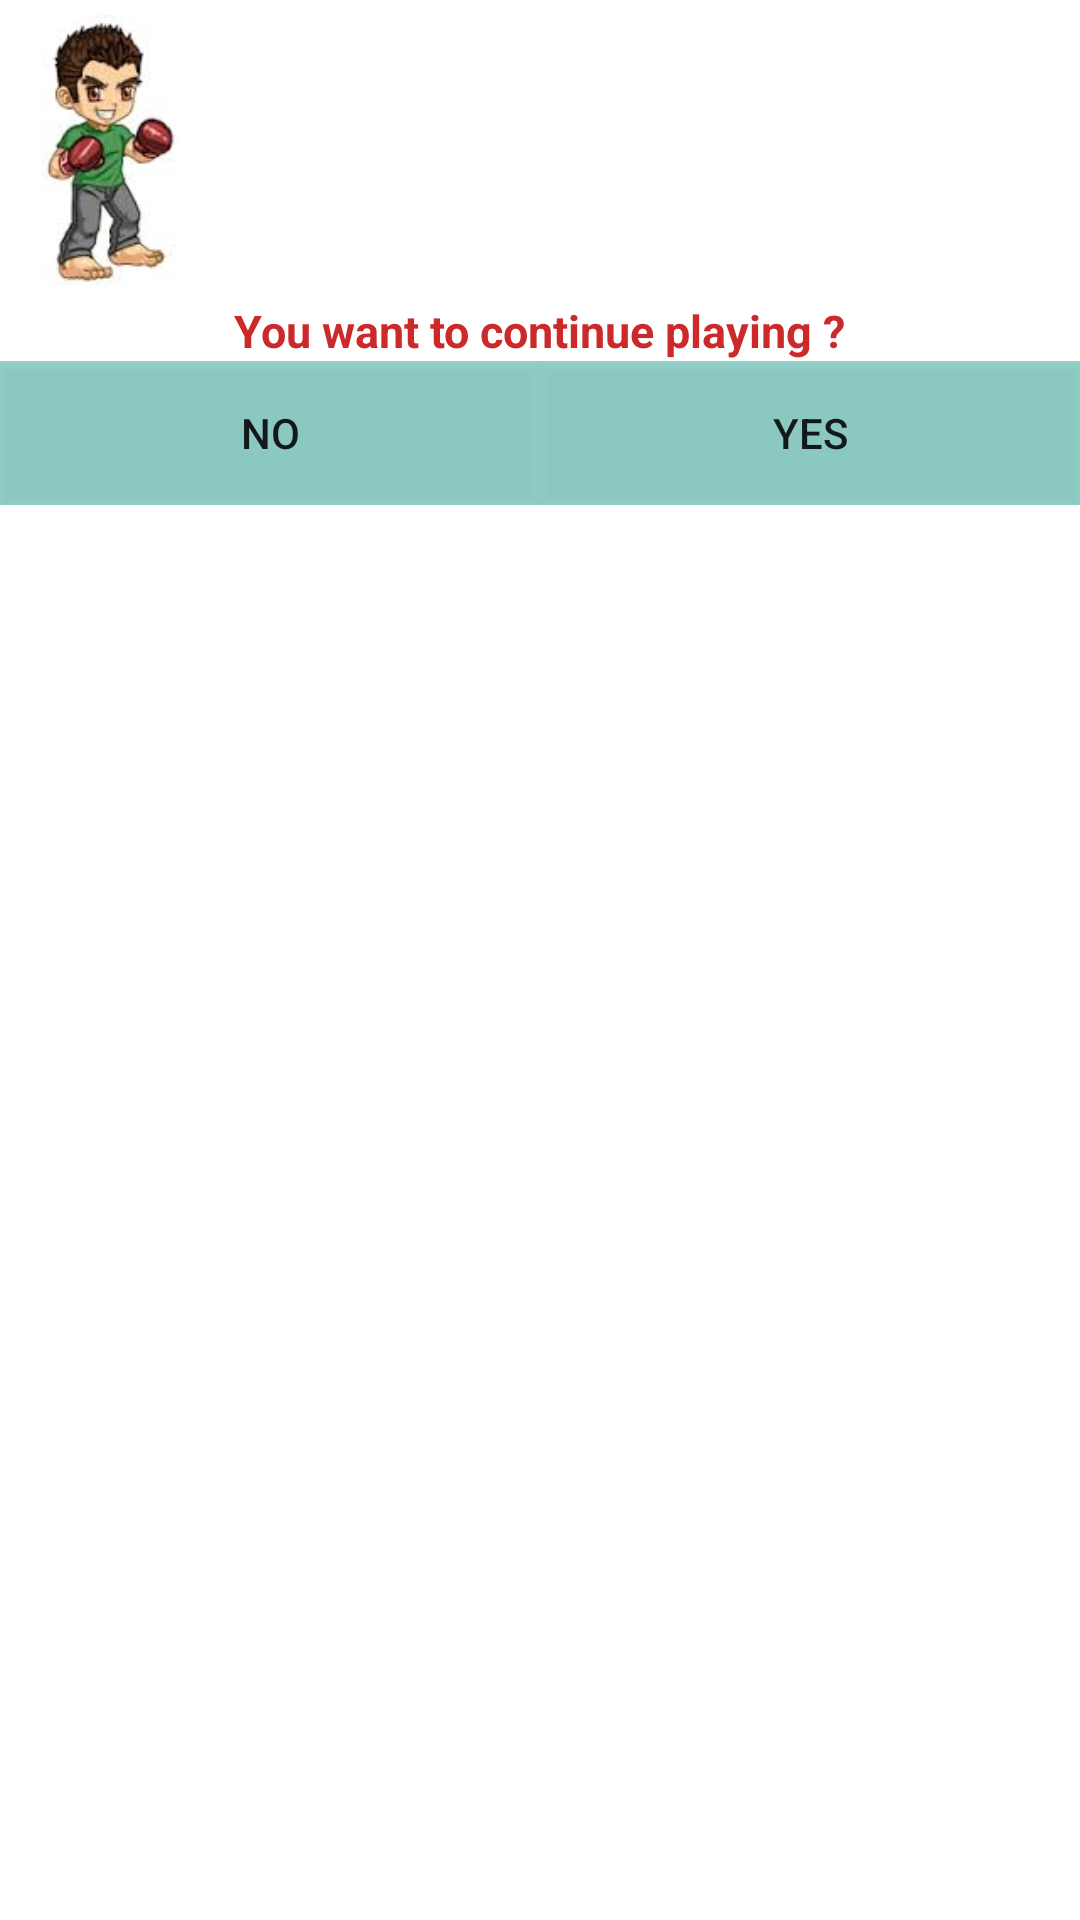

Screen size 1080*1920. Icon name, then its center in pixels as (x=x, y=y):
lutador: (x=110, y=152)
